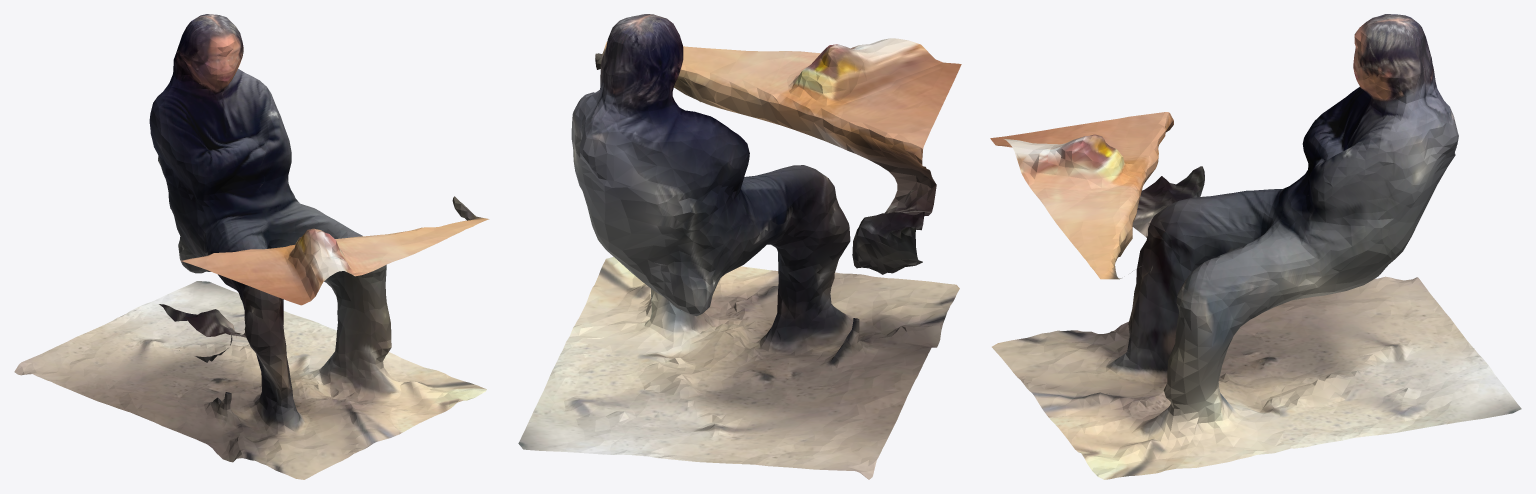
File: mbo_friends_Casey.glb
3 renders of one model, left to right at view 1: azimuth 30°, elevation 25°; view 2: azimuth 150°, elevation 25°; view 3: azimuth 270°, elevation 25°, orthographic. The views are drawn at different scales.
Bounding box in the file's own units: 1.47 × 1.33 × 1.68.
Materials: 1 (1 with a texture image).
